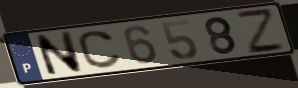5: (159, 18, 200, 61)
6: (121, 24, 159, 66)
8: (204, 15, 240, 56)
C: (76, 29, 124, 71)
N: (32, 29, 86, 78)
Z: (233, 8, 289, 56)
